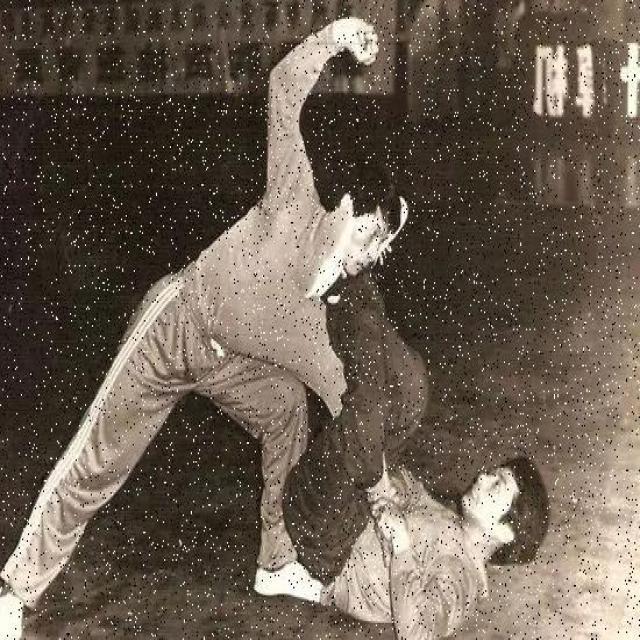fall: (306, 364, 566, 618)
